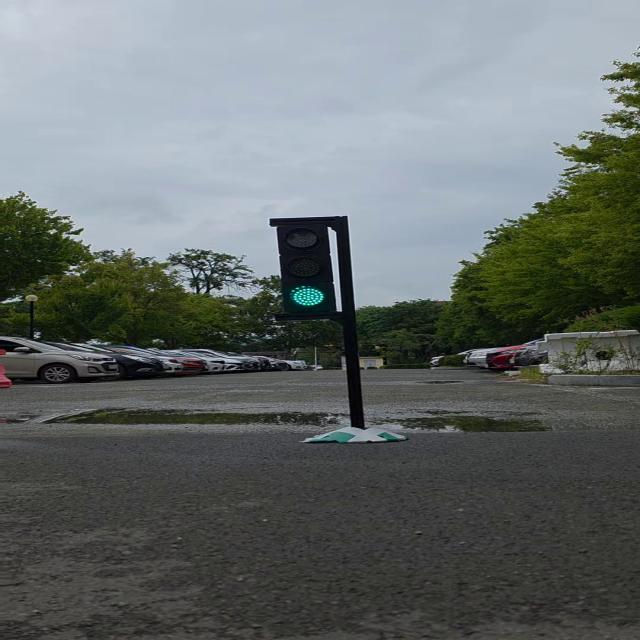green: (276, 218, 350, 318)
